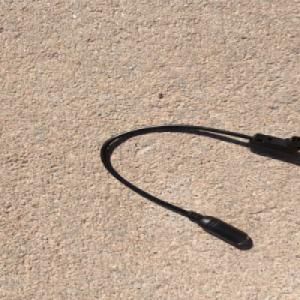Wire: (97, 121, 300, 247)
